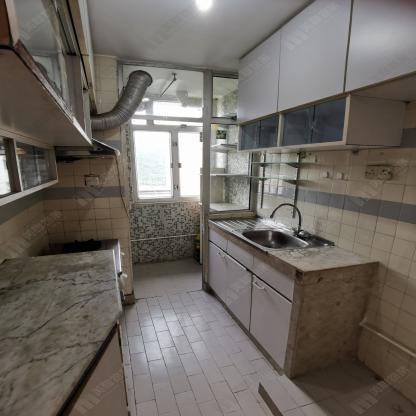Cupboard: (237, 2, 416, 150), (204, 227, 301, 374)
Exhaust Hood: (54, 139, 120, 158)
Faucet: (268, 199, 308, 235)
Sink: (217, 218, 330, 250)
